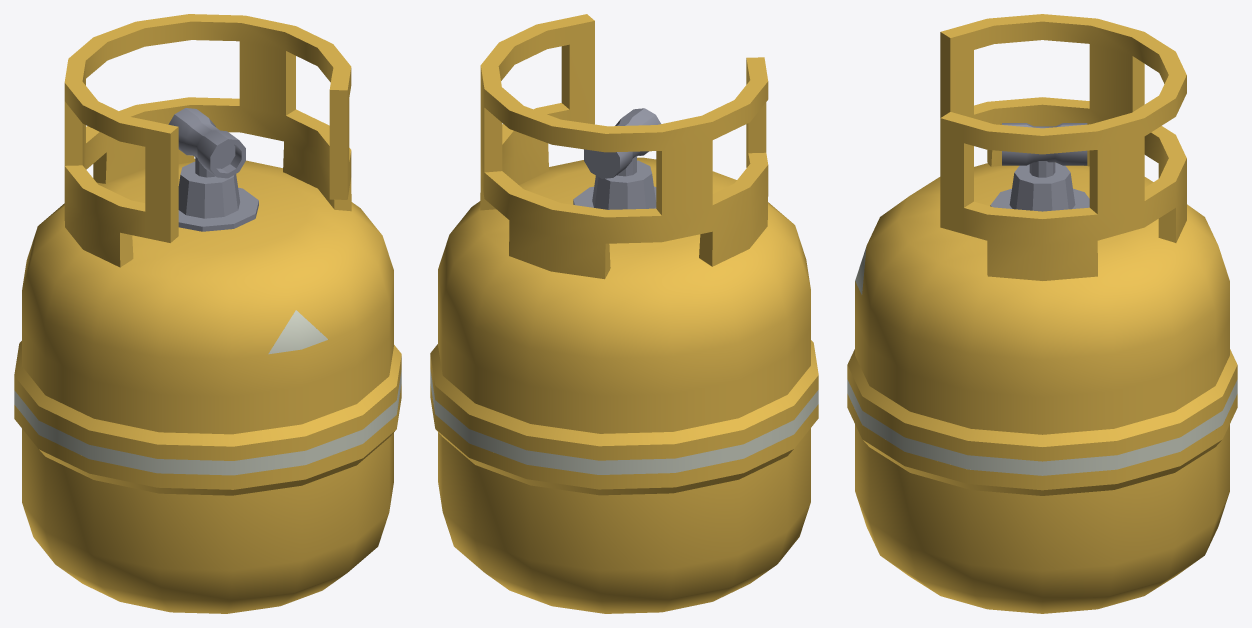
The model's file is GasTank.glb.
3 renders of one model, left to right at view 1: azimuth 30°, elevation 25°; view 2: azimuth 150°, elevation 25°; view 3: azimuth 270°, elevation 25°, orthographic.
Visible parts, largest first — view 1: GasTank; view 2: GasTank; view 3: GasTank.
Boxes of the visible parts, x1,y1,x2,y2 form: GasTank: (14, 14, 401, 613); GasTank: (430, 14, 818, 613); GasTank: (847, 14, 1237, 613).
Size of the model in its own units: 1.01 by 1.39 by 1.01.
